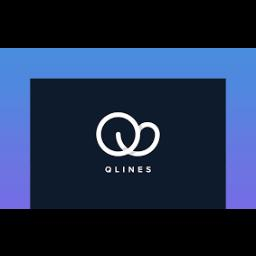e: (138, 164, 144, 174)
i: (122, 165, 126, 173)
l: (115, 164, 121, 174)
n: (128, 164, 134, 172)
q: (100, 162, 114, 174)
s: (144, 164, 152, 174)
